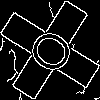O: (25, 25, 85, 83)
